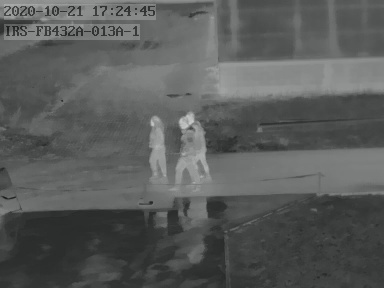person: (174, 111, 198, 189), (187, 111, 212, 182), (147, 112, 169, 182)
